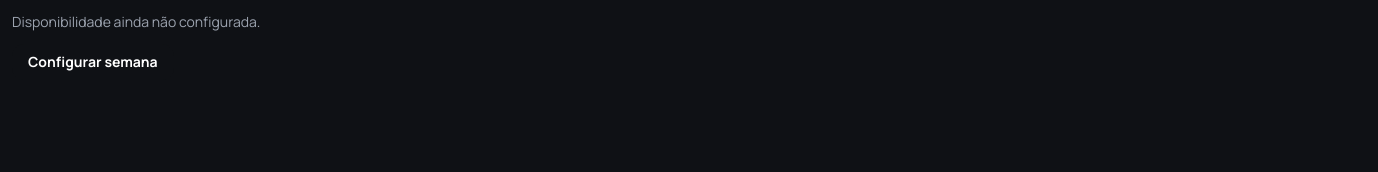
AvailabilityEditor › distingue não configurado de fechado e permite intervalos separados
Later steps or results of the test are not shown.
Expected: the text "Disponibilidade ainda não configurada." is shown, [12,12,260,31]
Click the button "Configurar semana".
click(93, 62)  # box [12,44,174,80]
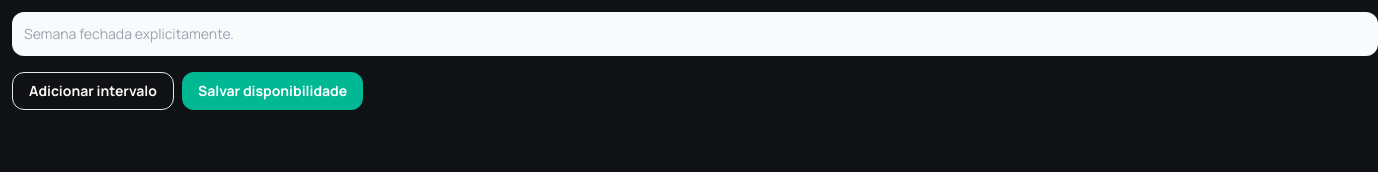
Click the button "Adicionar intervalo".
click(93, 91)  # box [12,72,174,110]
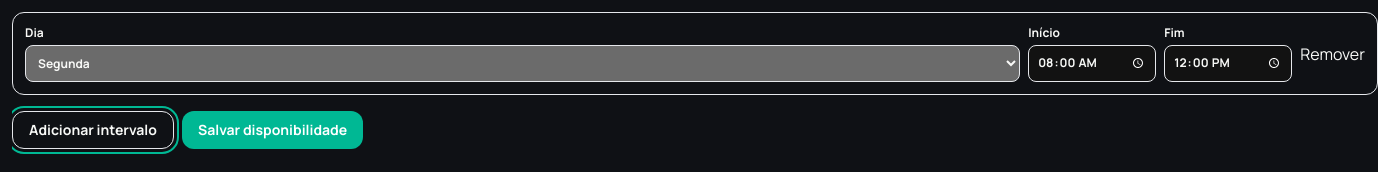
Result: the number of time fields labelled "Início" is 1 at [1028,45,1156,82]
